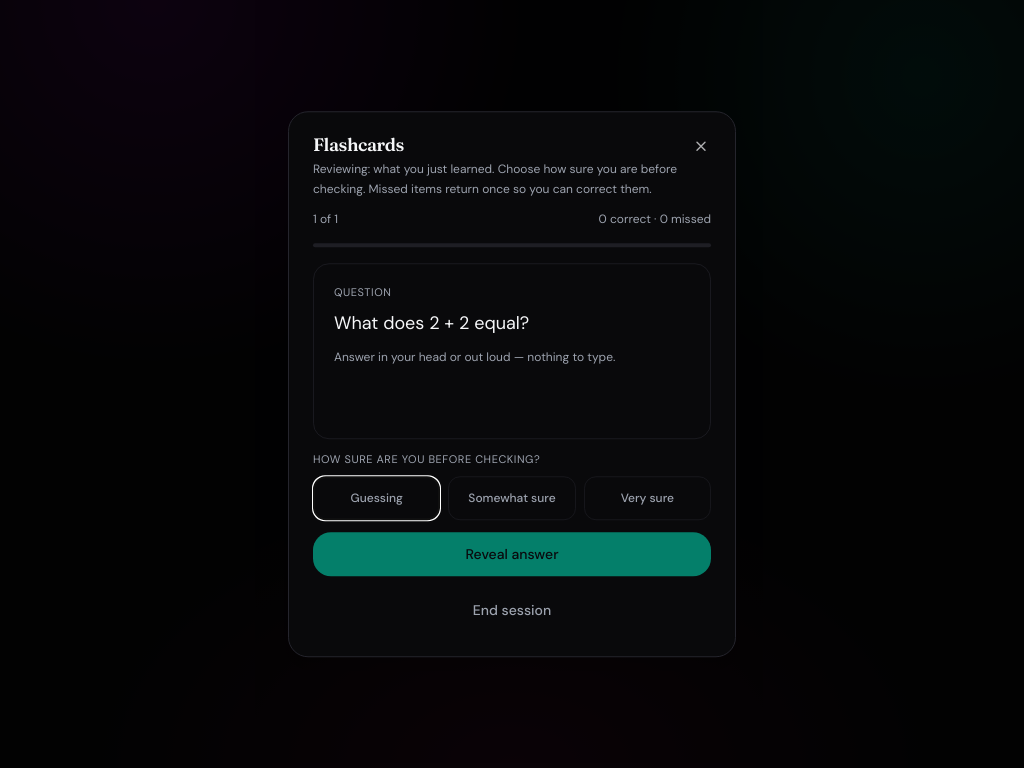
Test case: real flashcard runner › captures confidence before revealing or grading the answer
Check: the text "Choose how sure you are before checking" is shown, box [313,161,677,197]
Check: the text "What does 2 + 2 equal?" is shown, box [334,311,529,335]
Step 1. Click the button "Somewhat sure" → (512, 498), box [448,476,576,520]
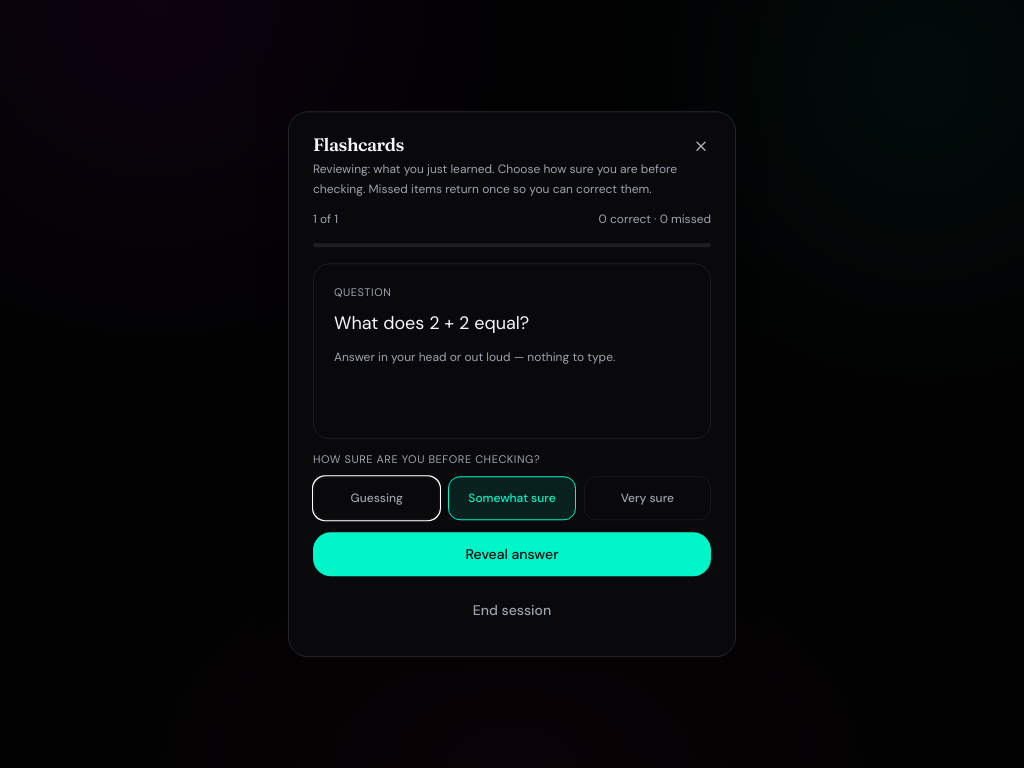
Step 2. Click the button "Reveal answer" → (512, 554), box [313,532,711,576]
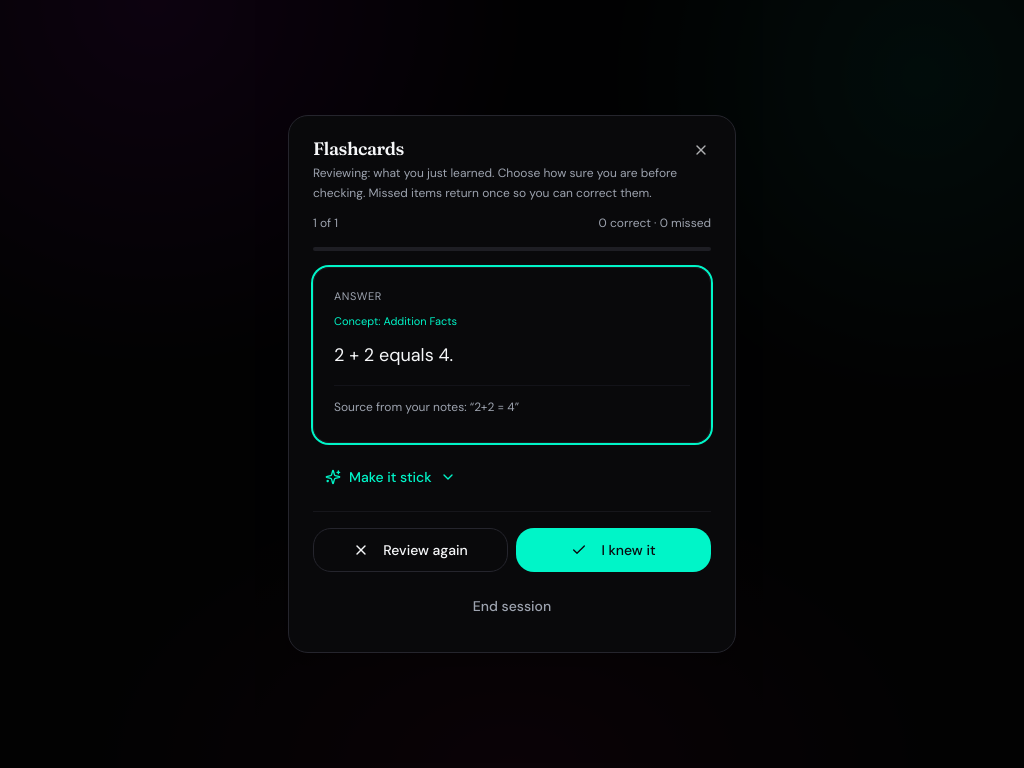
Check: the text "2 + 2 equals 4." is shown, box [334,343,453,367]
Check: the text "Concept: Addition Facts" is shown, box [334,314,457,328]
Check: the text "Source from your notes: “2+2 = 4”" is shown, box [334,385,690,418]
